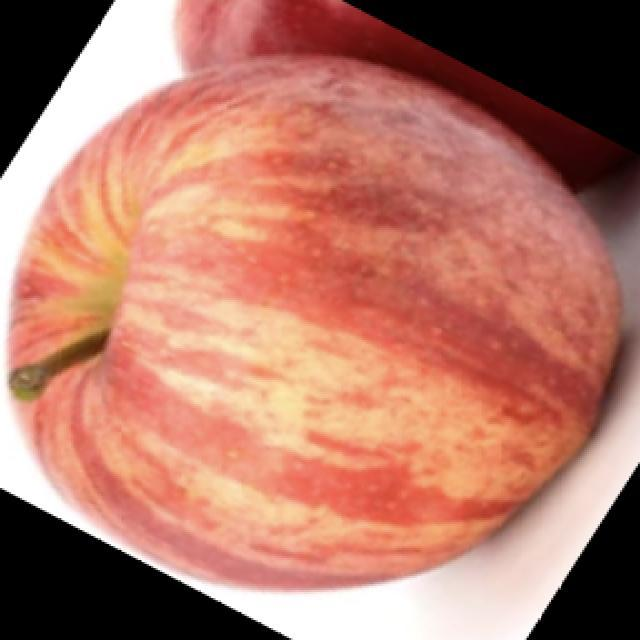Fresh Apple: (5, 89, 600, 594)
